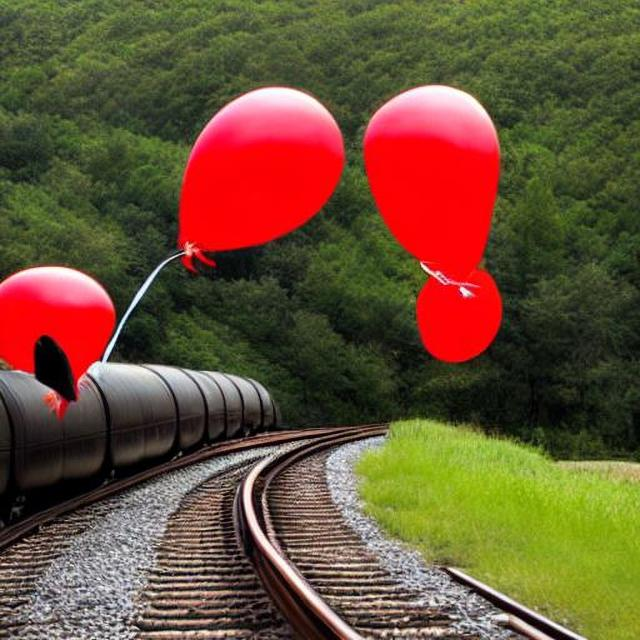balloon: (167, 80, 360, 270), (355, 82, 503, 328), (0, 252, 124, 384), (410, 256, 502, 362)
